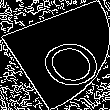O_NW: (14, 22, 96, 88)
